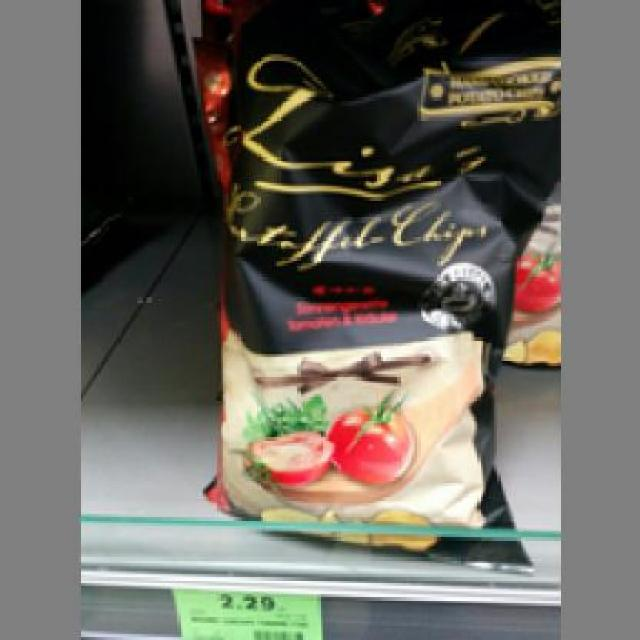Chips: (193, 46, 530, 554)
